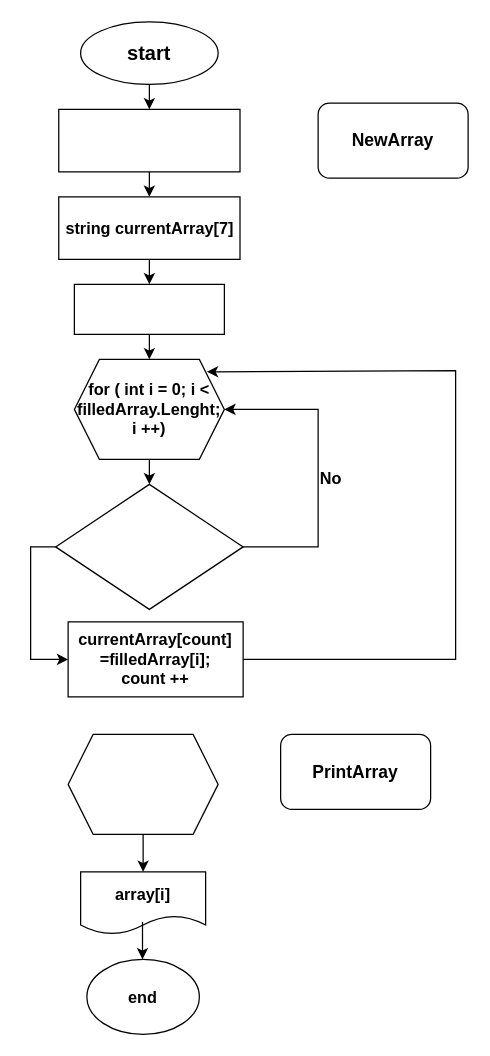
The diagram is 490 pixels wide and 1056 high, and some of its shapes have lost their labels. Here are the shapes that lost their labels. From the top down, the centre of each, then its label:
At [149,140]: "string filledArray[7]".
At [148,308]: "int count = 0".
At [148,546]: "if (filledArray[i] < 3)".
At [142,783]: "for ( int i = 0; i < array.Lenght; i ++)".
